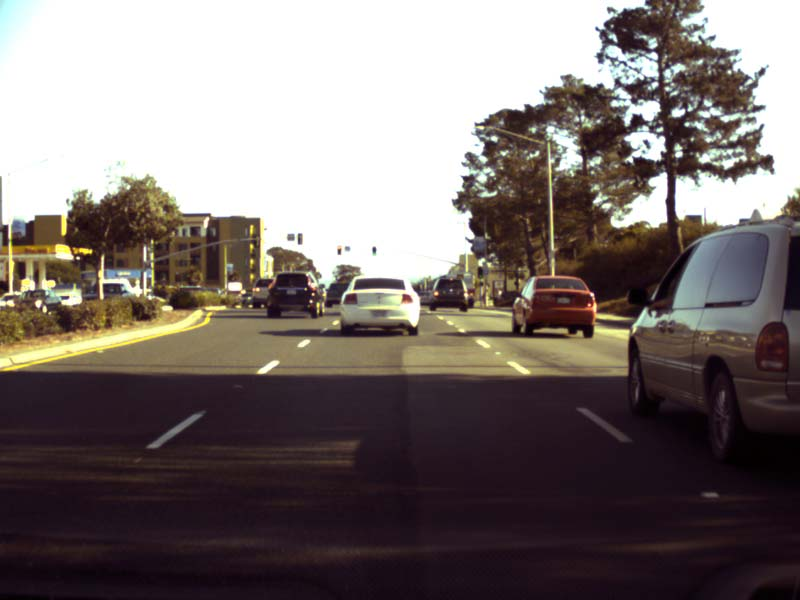Green: (476, 266, 482, 279), (371, 245, 377, 256)
Red: (336, 245, 342, 255)
